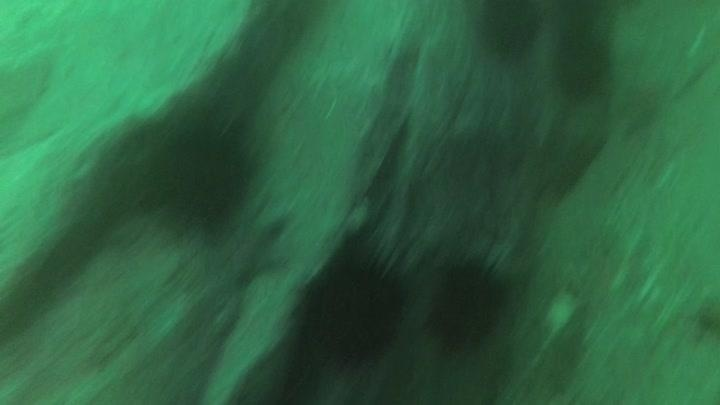echinus: (142, 106, 261, 236), (296, 241, 413, 372), (424, 250, 514, 356), (549, 24, 615, 101), (474, 1, 546, 62)
starfish: (210, 202, 293, 287)
